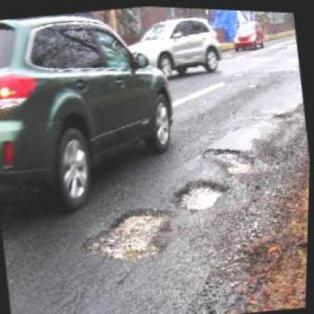Hueco: (80, 197, 184, 270), (171, 171, 231, 214), (201, 137, 259, 179)
